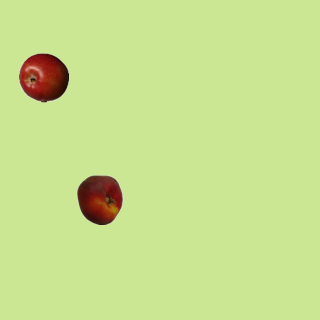Apple Braeburn: (18, 52, 68, 102)
Nectarine Flat: (74, 174, 124, 224)
